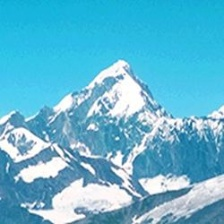neutral: (4, 2, 221, 223)
